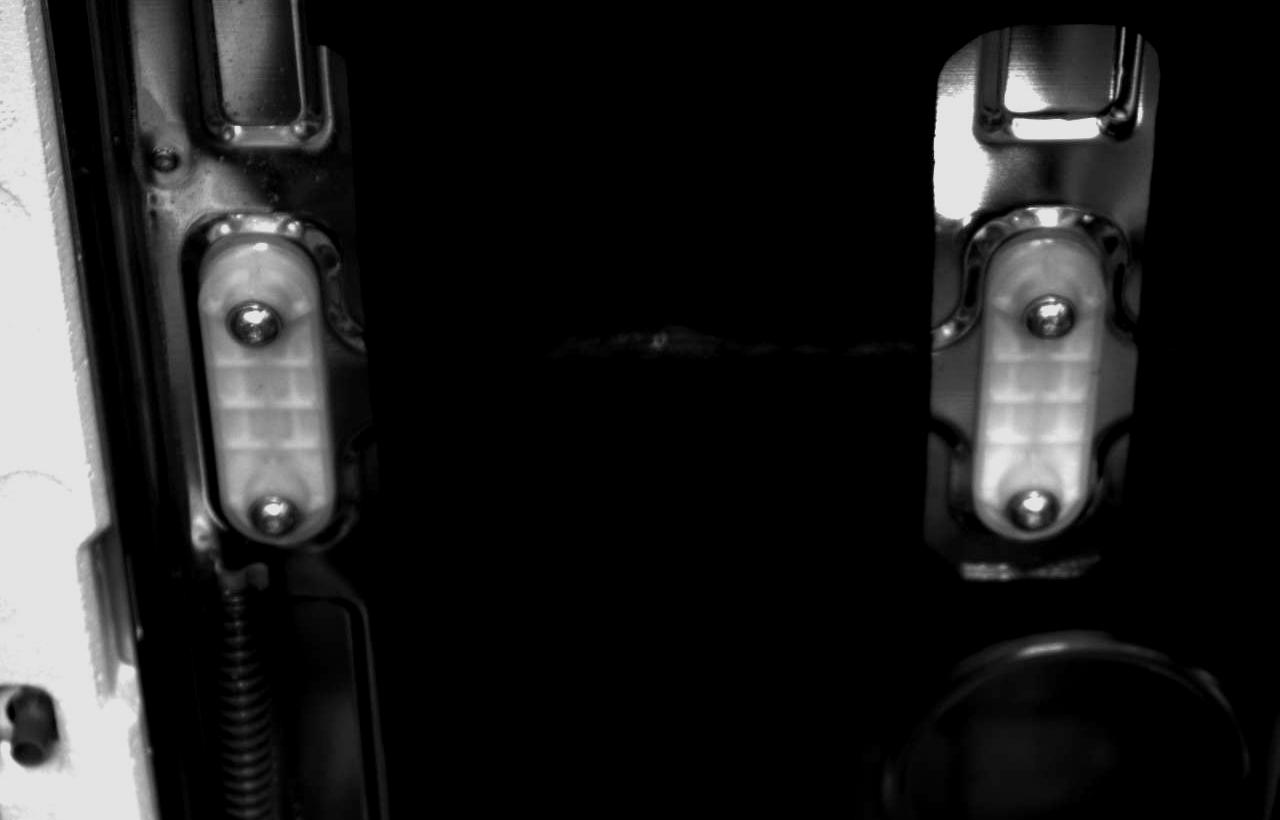vida-ok: (216, 291, 287, 358), (1019, 282, 1086, 349), (1006, 474, 1071, 542), (239, 487, 304, 545)
